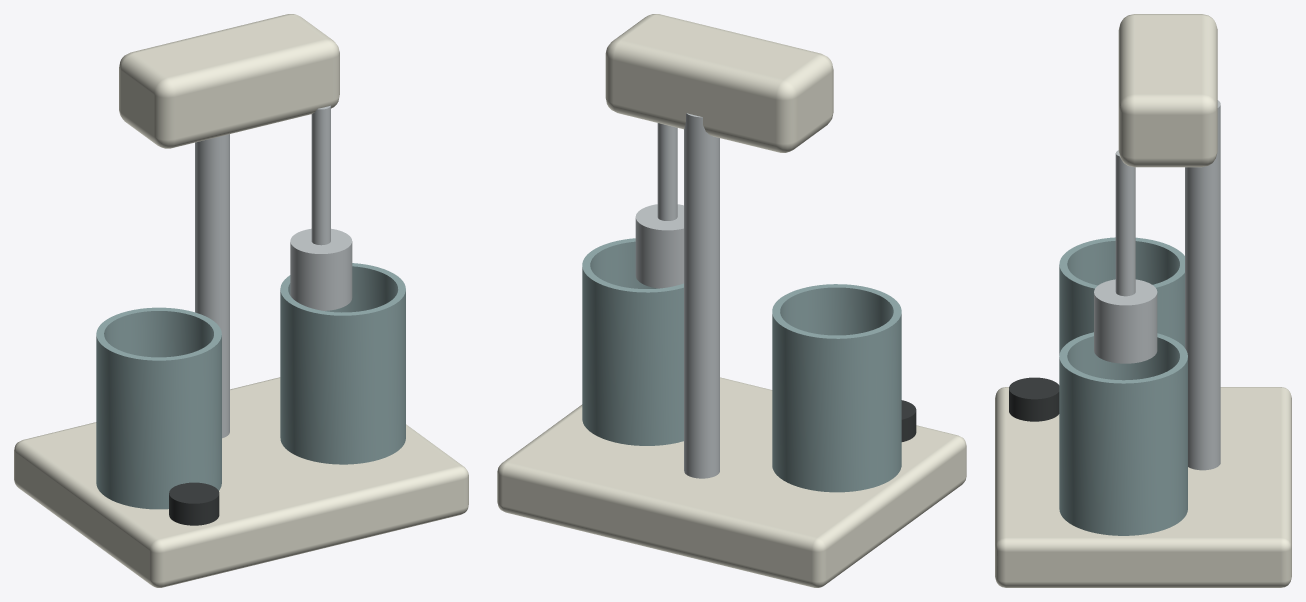
The model's file is clockmaker-and-watch-repair-movement-cleaning-machine-b2b33164__30612.glb.
3 renders of one model, left to right at view 1: azimuth 30°, elevation 25°; view 2: azimuth 150°, elevation 25°; view 3: azimuth 270°, elevation 25°, orthographic. The views are drawn at different scales.
Visible parts, largest first — view 1: movement-cleaning-machine; view 2: movement-cleaning-machine; view 3: movement-cleaning-machine.
Boxes of the visible parts, bbox=[...] form: movement-cleaning-machine: bbox=[14, 14, 468, 587]; movement-cleaning-machine: bbox=[497, 14, 966, 587]; movement-cleaning-machine: bbox=[995, 14, 1291, 587].
Size of the model in its own units: 0.38 by 0.51 by 0.3.
